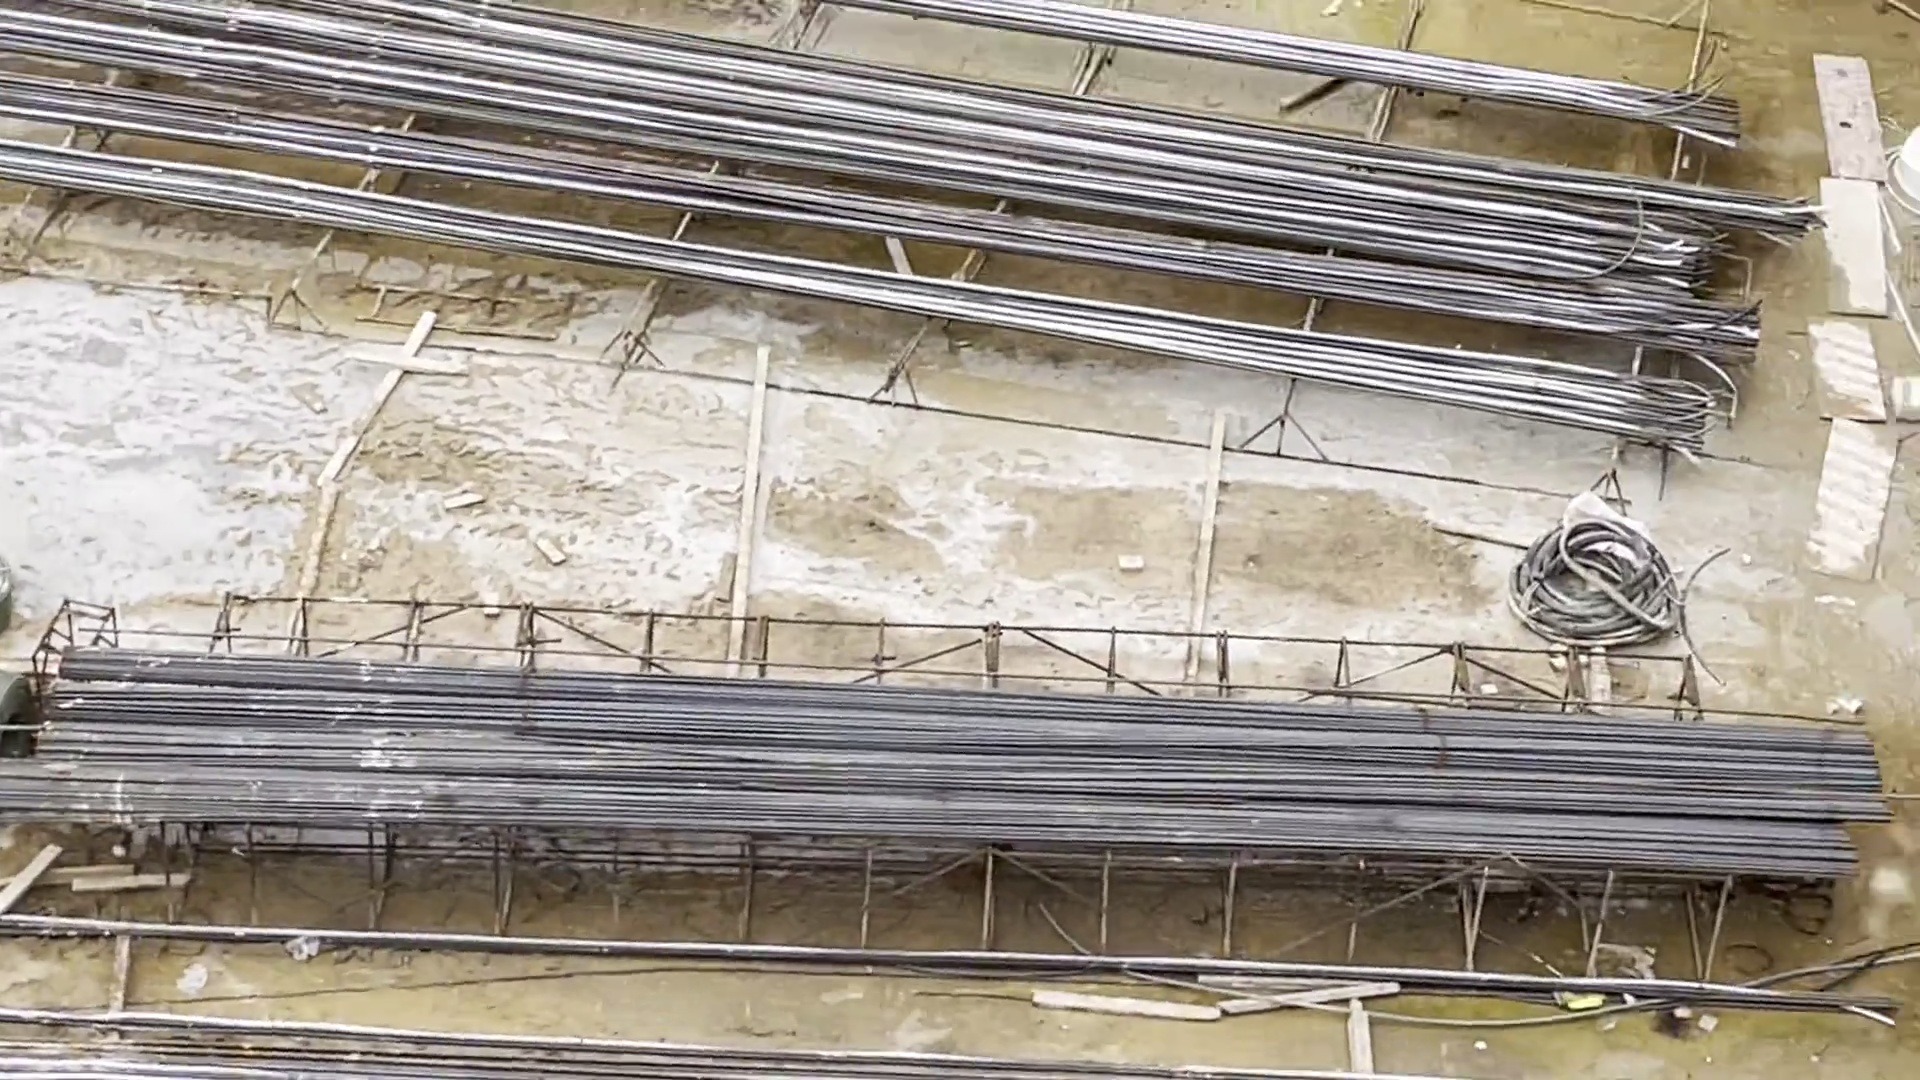rebar: (611, 32, 1792, 462), (1, 634, 1895, 880), (1, 1, 721, 266), (848, 1, 1764, 156)
